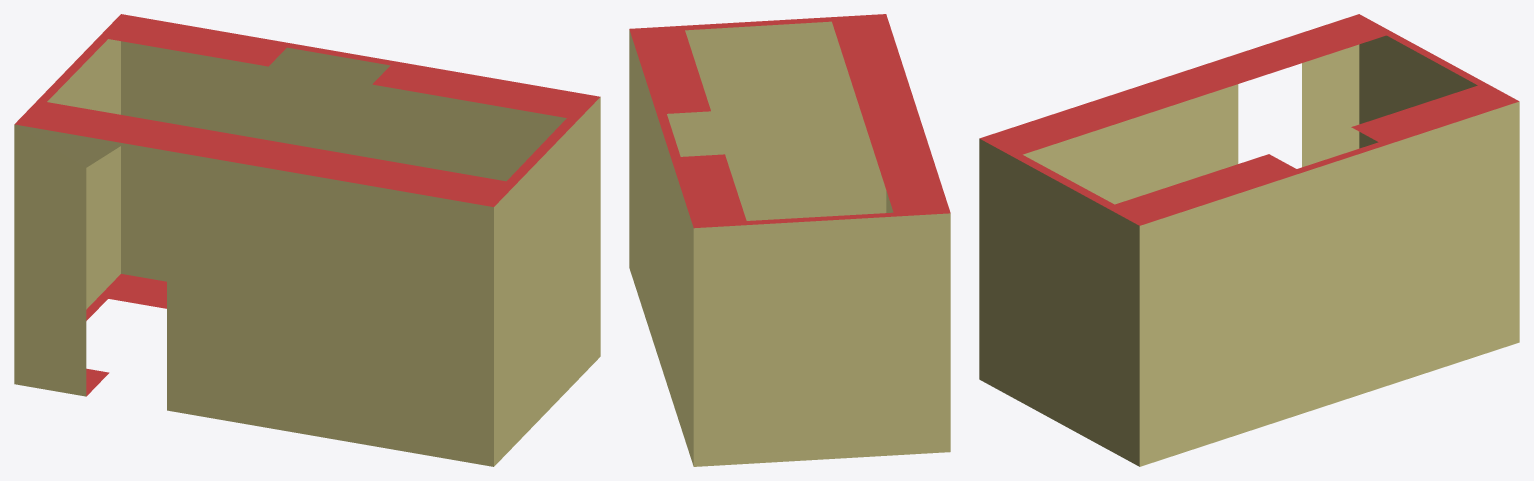
3 views of the same model, side by side, from view 1: azimuth 30°, elevation 25°; view 2: azimuth 150°, elevation 25°; view 3: azimuth 270°, elevation 25° (orthographic). The views are drawn at different scales.
Size of the model in its own units: 24.92 by 26.85 by 13.22.
